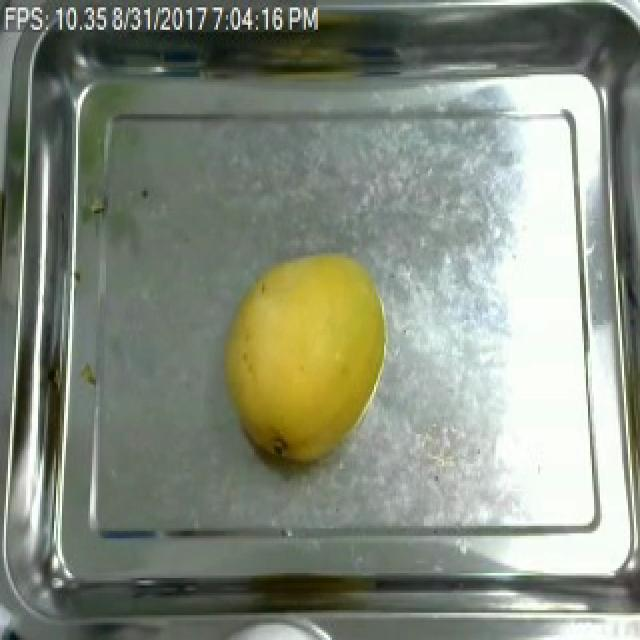fruit: (208, 241, 398, 474)
